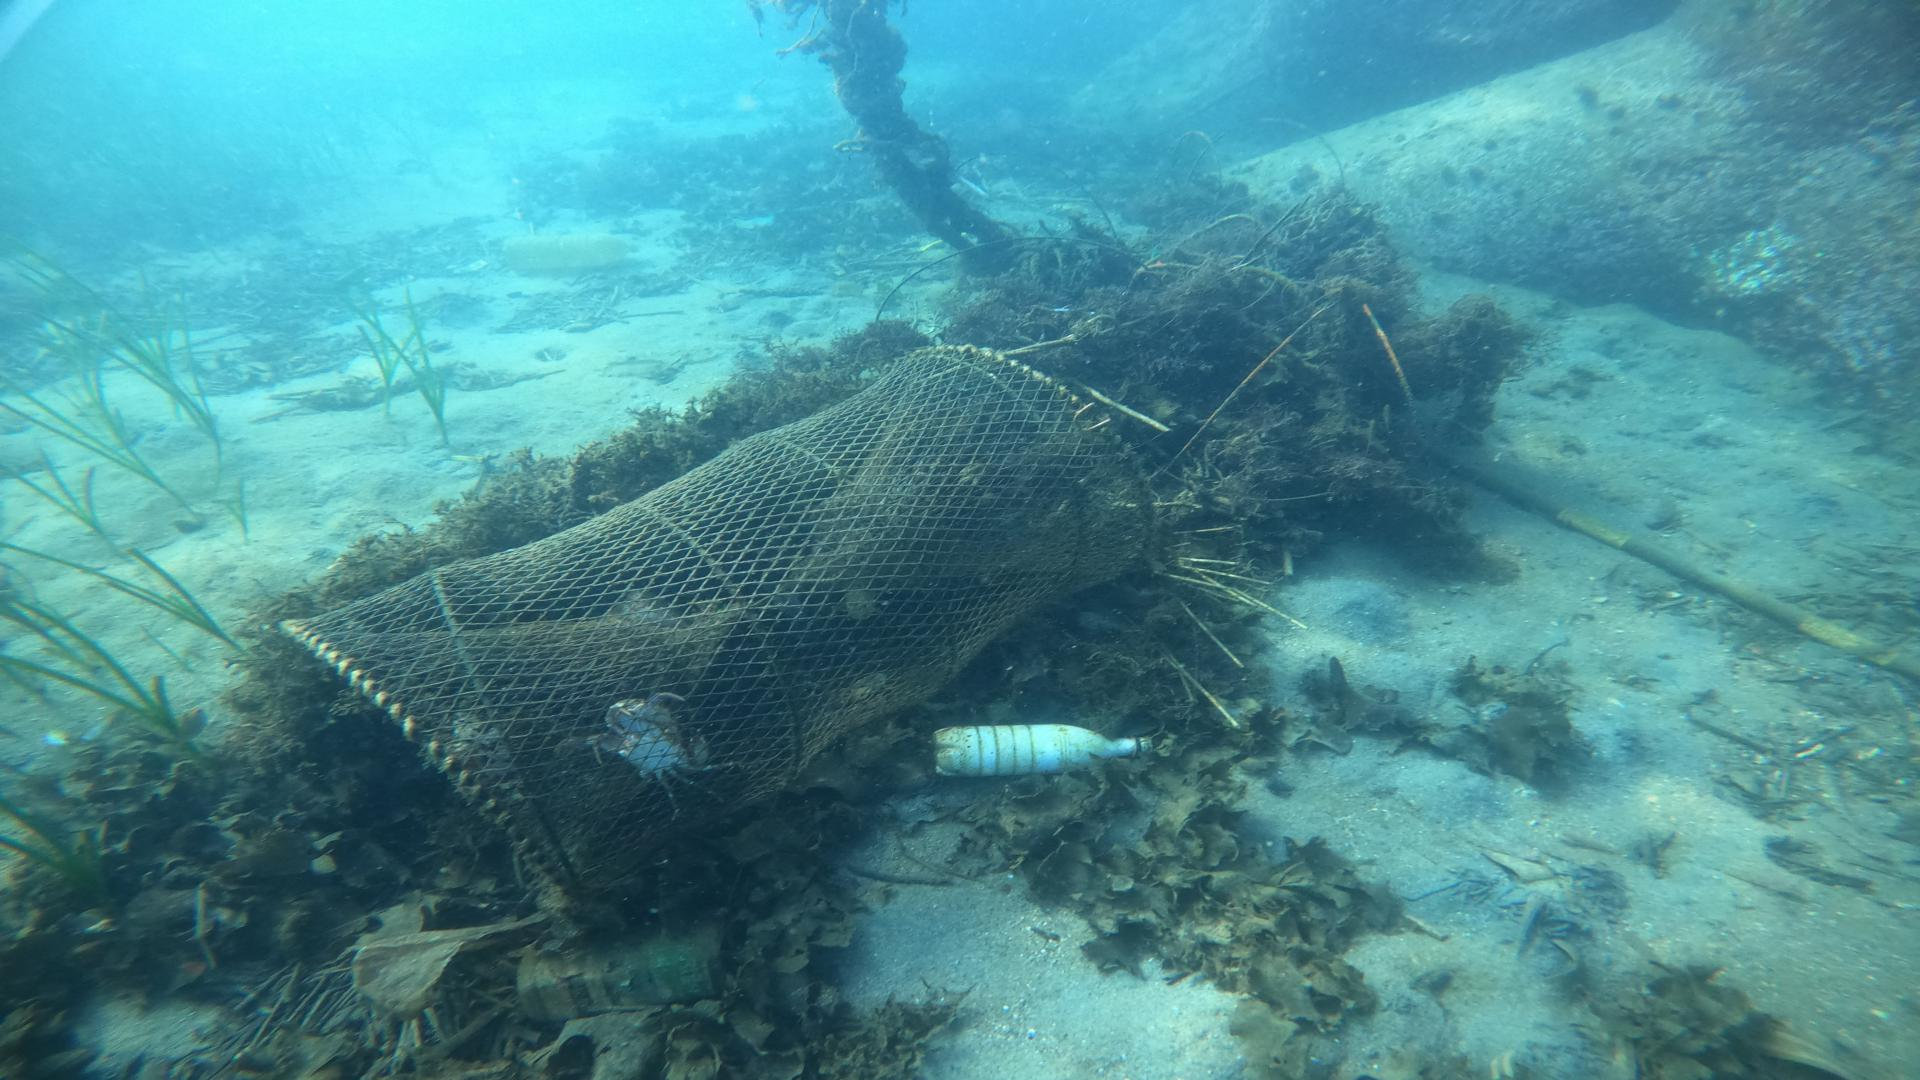spring fish trap: (276, 343, 1158, 916)
